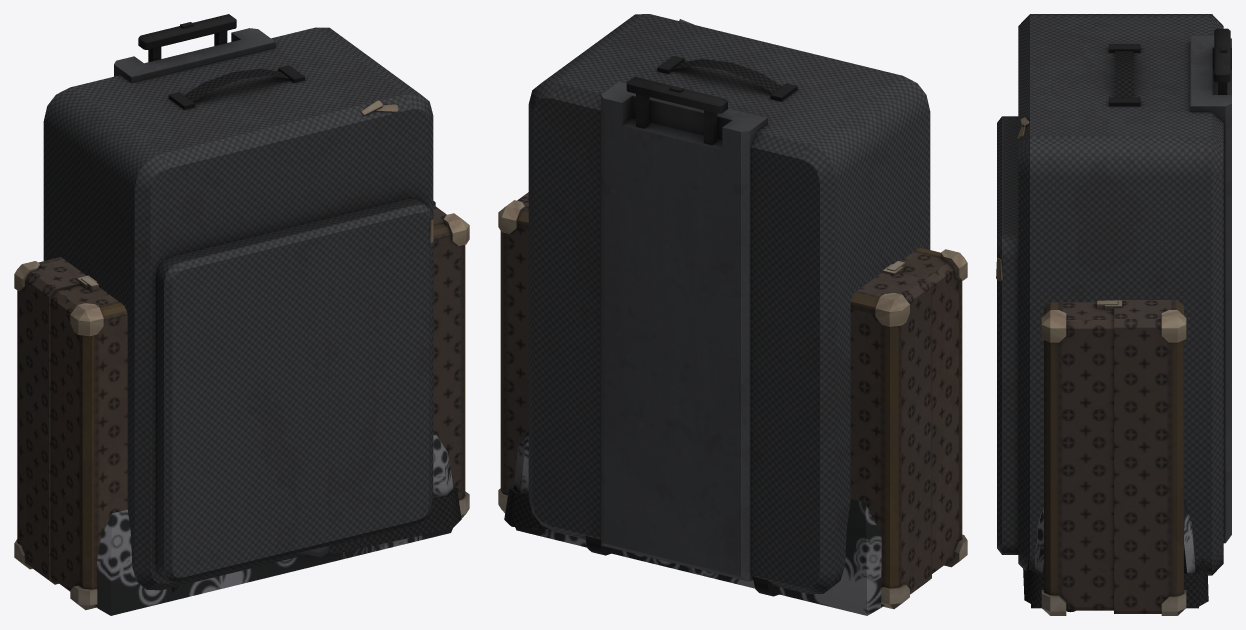
File: luggage.FBX
3 views of the same model, side by side, from view 1: azimuth 30°, elevation 25°; view 2: azimuth 150°, elevation 25°; view 3: azimuth 270°, elevation 25° (orthographic). The views are drawn at different scales.
Visible parts, largest first — view 1: suitcase3, suitcase1, bag; view 2: suitcase3, suitcase1, bag; view 3: suitcase3, suitcase1, bag.
Boxes of the visible parts, x1,y1,x2,y2 form: suitcase3: [43, 14, 433, 590]; suitcase1: [14, 201, 469, 610]; bag: [95, 434, 461, 615]; suitcase3: [528, 14, 930, 596]; suitcase1: [498, 192, 967, 609]; bag: [504, 431, 884, 615]; suitcase3: [996, 14, 1231, 575]; suitcase1: [1041, 300, 1186, 615]; bag: [1023, 498, 1208, 608].
Size of the model in its own units: 29.16 by 34.11 by 15.23.
